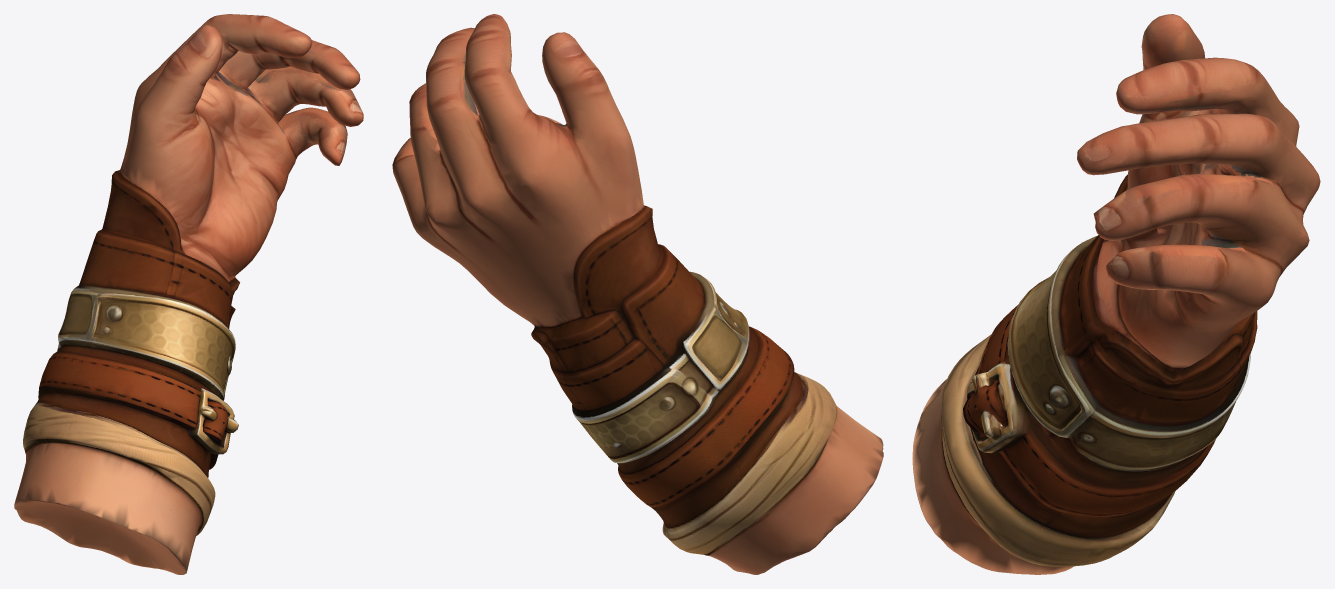
The model's file is cleaned-model.glb.
The picture shows the model from 3 angles, left to right: view 1: azimuth 30°, elevation 25°; view 2: azimuth 150°, elevation 25°; view 3: azimuth 270°, elevation 25°; orthographic projection. The views are drawn at different scales.
Parts seen in each view (by area): view 1: Mesh_0; view 2: Mesh_0; view 3: Mesh_0.
Part boxes in pixels (x1=…): Mesh_0: x1=14, y1=14, x2=363, y2=574; Mesh_0: x1=392, y1=14, x2=883, y2=574; Mesh_0: x1=912, y1=14, x2=1320, y2=574.
Bounding box in the file's own units: 0.3383 × 0.42 × 0.2468.
Materials: 1 (1 with a texture image).
